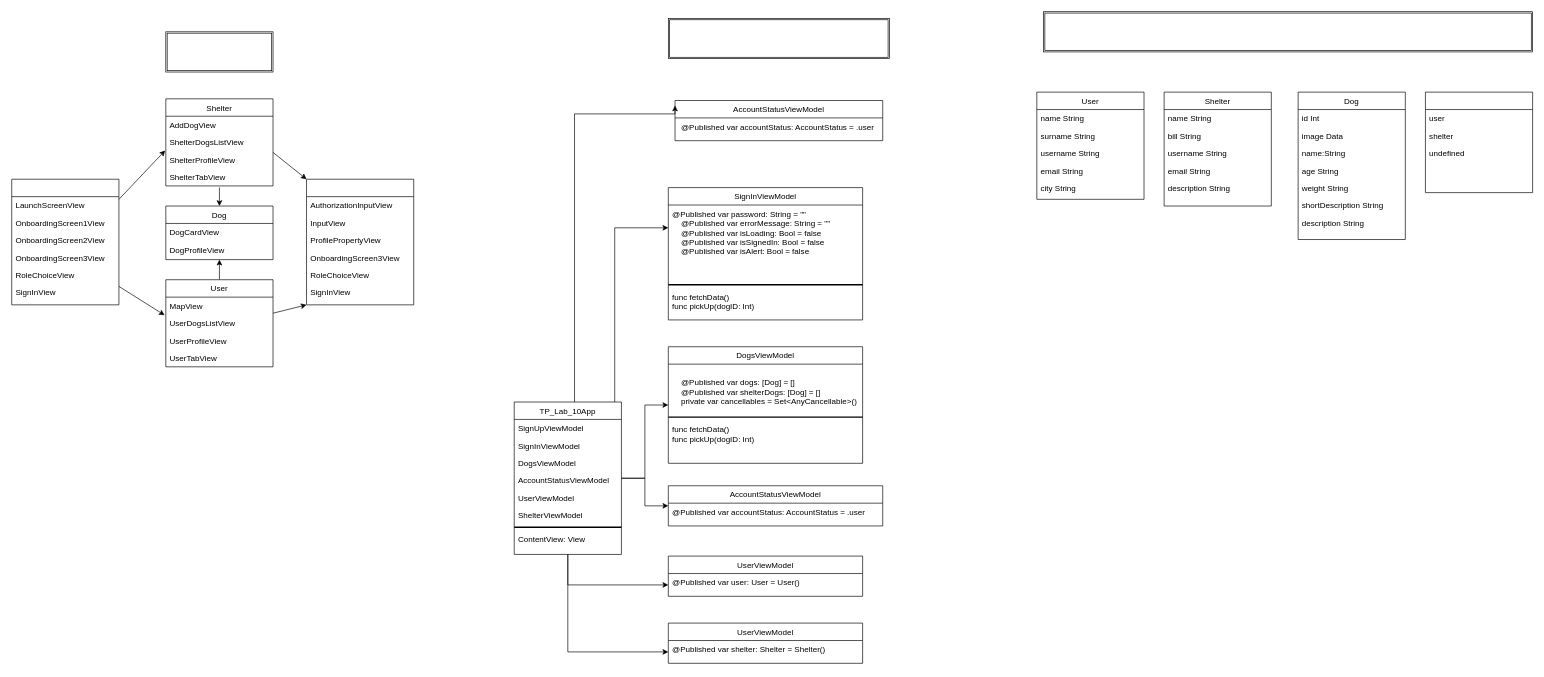
The diagram is 1544 pixels wide and 677 high, and some of its shapes have lost their labels. The shapes that lost their labels are listed below. From the top down, each one's box as (x1, y1, x2, y2) in pixels, then its label:
(165, 31, 273, 72): View
(668, 18, 889, 59): ViewModels
(1043, 11, 1533, 52): Model
(1425, 91, 1533, 193): AccountStatus
(11, 179, 119, 305): Authorization
(306, 179, 414, 305): Components
